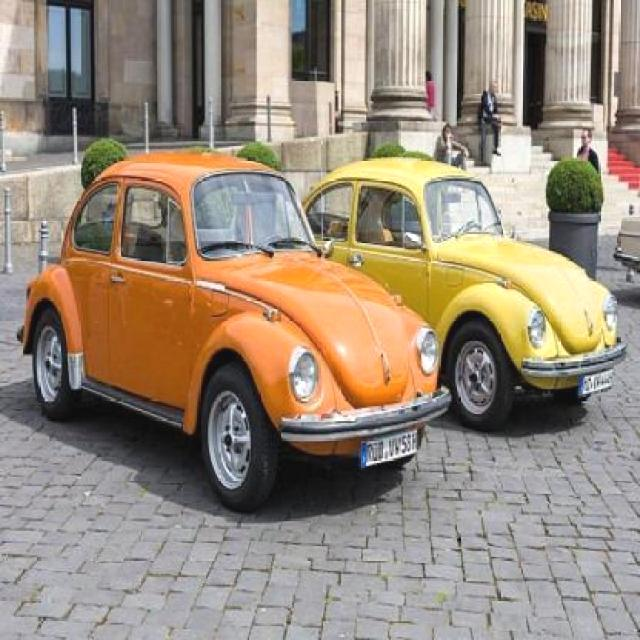car: (22, 155, 445, 496)
